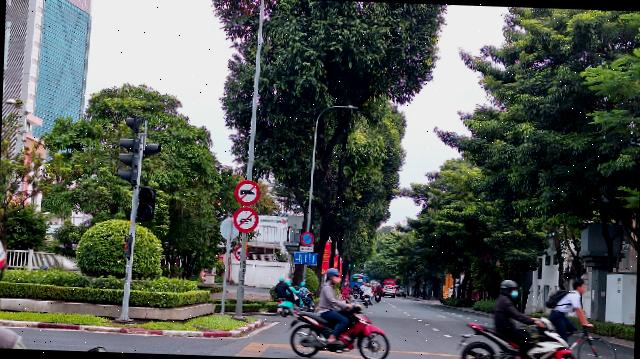cam-bop-coi: (233, 206, 259, 233)
cam-do-xe: (300, 232, 315, 247)
